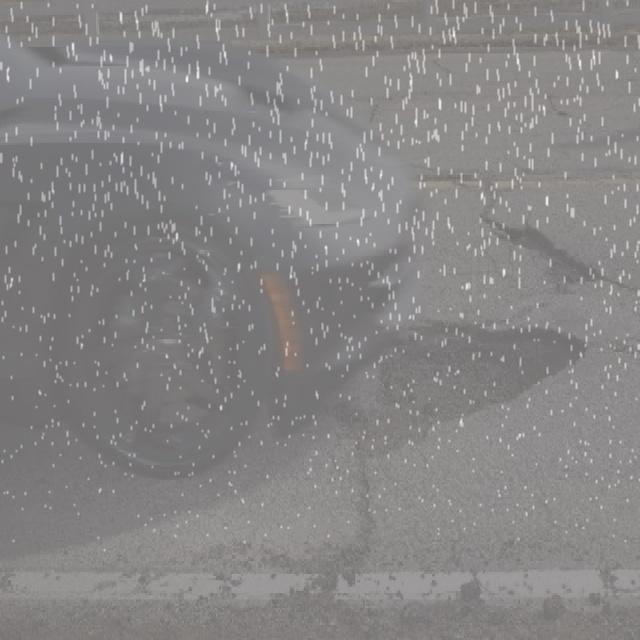Pothole: (343, 318, 592, 462), (469, 210, 608, 298), (422, 171, 487, 195)
